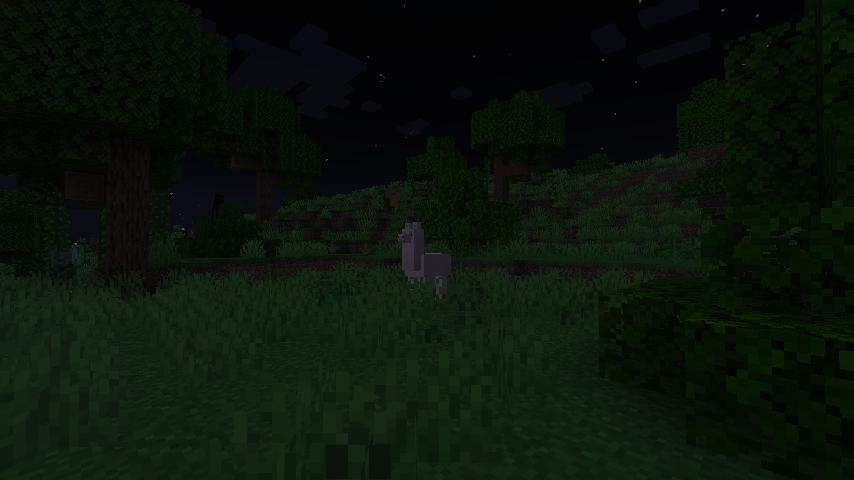llama: (393, 216, 457, 305)
